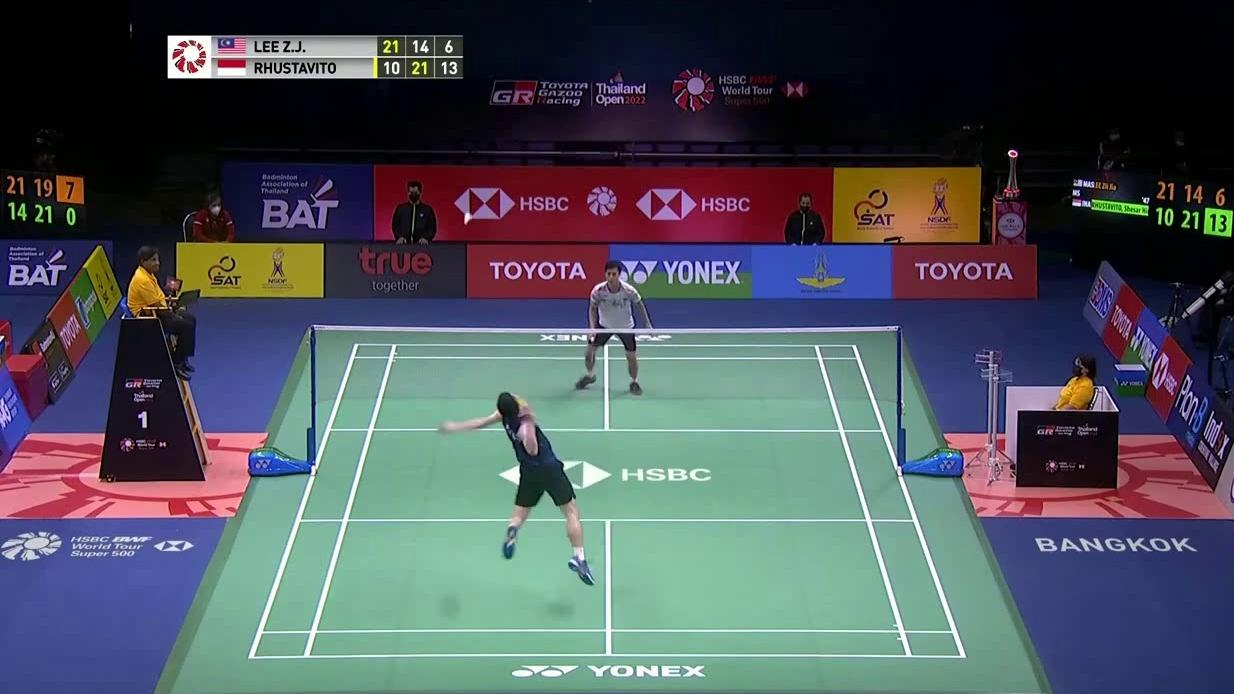racket: (474, 375, 535, 416), (587, 334, 599, 365)
shuttle: (462, 212, 473, 227)
